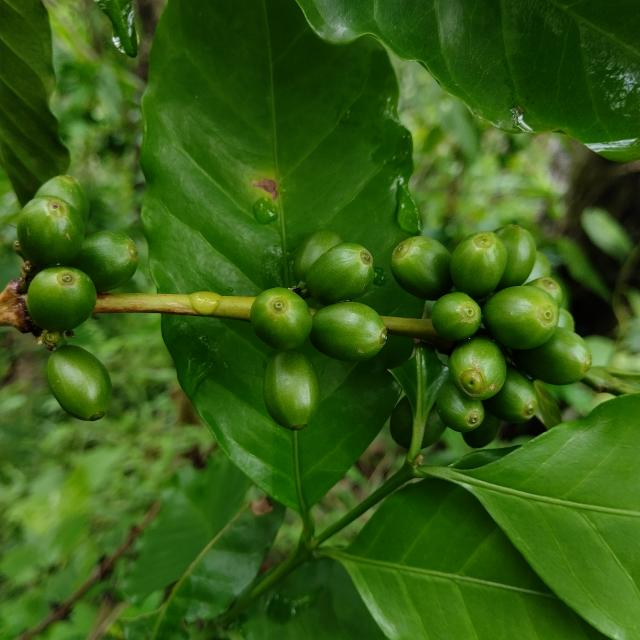green: (483, 285, 560, 350), (16, 195, 84, 268), (46, 345, 111, 421), (309, 302, 387, 362), (263, 349, 320, 431), (514, 327, 593, 386), (26, 266, 96, 332), (305, 242, 375, 306), (68, 230, 138, 292), (391, 236, 453, 301), (250, 288, 312, 351), (451, 231, 508, 299), (449, 336, 507, 401), (495, 224, 538, 291), (34, 175, 89, 223), (293, 229, 342, 281), (432, 292, 482, 341), (527, 277, 564, 308)
